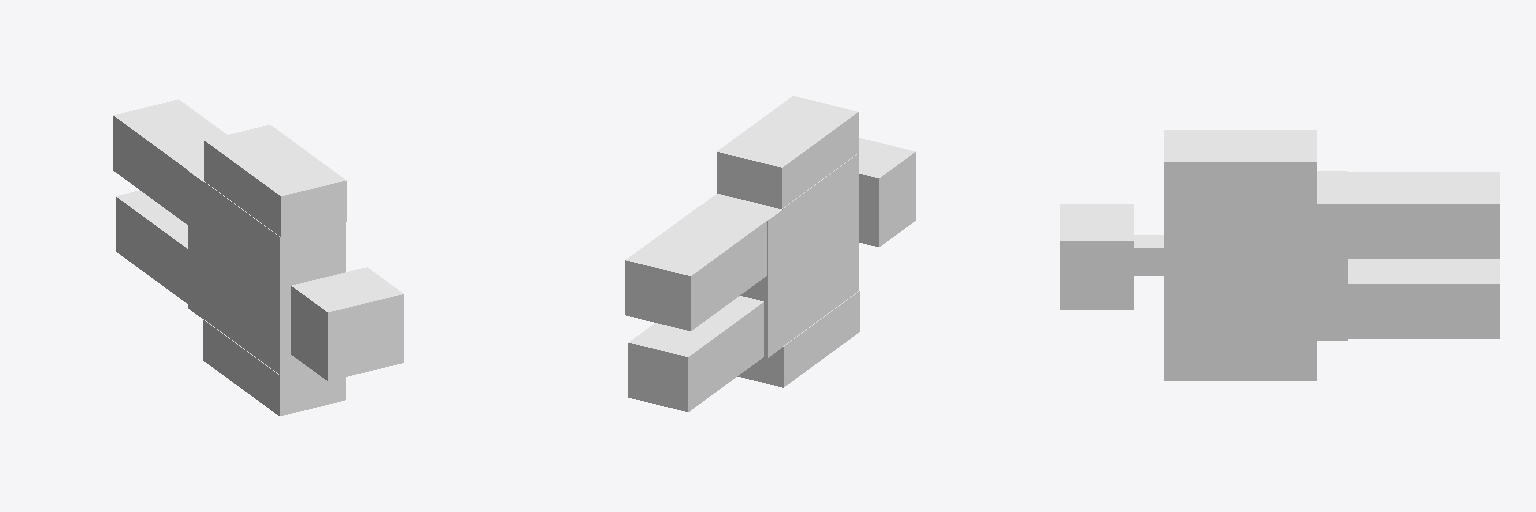
Rendered from lamp_mod.obj.
3 renders of one model, left to right at view 1: azimuth 30°, elevation 25°; view 2: azimuth 150°, elevation 25°; view 3: azimuth 270°, elevation 25°, orthographic.
Visible parts, largest first — view 1: Group001; view 2: Group001; view 3: Group001.
Part boxes in pixels (bbox=[...]): Group001: bbox=[113, 99, 403, 415]; Group001: bbox=[625, 96, 915, 411]; Group001: bbox=[1060, 130, 1499, 380].
Bounding box in the file's own units: 2.87 × 7.91 × 14.35.